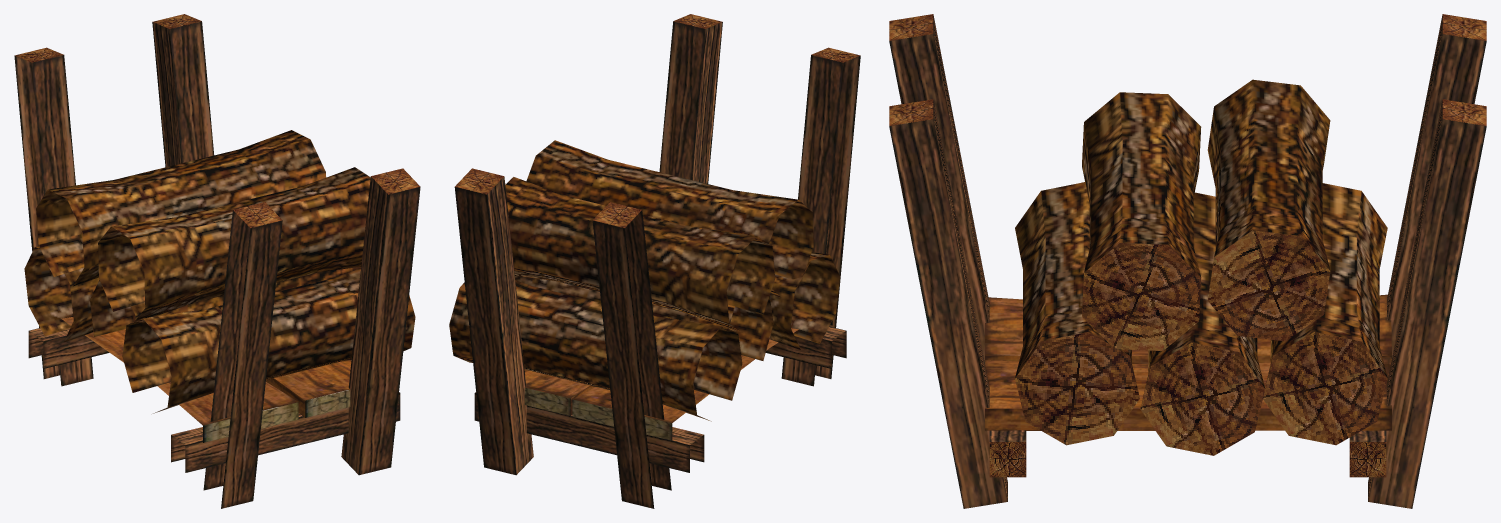
The model's file is INST_HTOWN_WOODPILE.fbx.
The picture shows the model from 3 angles, left to right: view 1: azimuth 30°, elevation 25°; view 2: azimuth 150°, elevation 25°; view 3: azimuth 270°, elevation 25°; orthographic projection. The views are drawn at different scales.
Parts seen in each view (by area): view 1: INST_HTOWN_WOODPILE; view 2: INST_HTOWN_WOODPILE; view 3: INST_HTOWN_WOODPILE.
Part boxes in pixels (x1,y1,x2,y2): INST_HTOWN_WOODPILE: [14, 14, 420, 508]; INST_HTOWN_WOODPILE: [449, 14, 860, 508]; INST_HTOWN_WOODPILE: [889, 14, 1486, 508].
Bounding box in the file's own units: 6072 × 6565 × 9121.
Materials: 6 (6 with a texture image).
